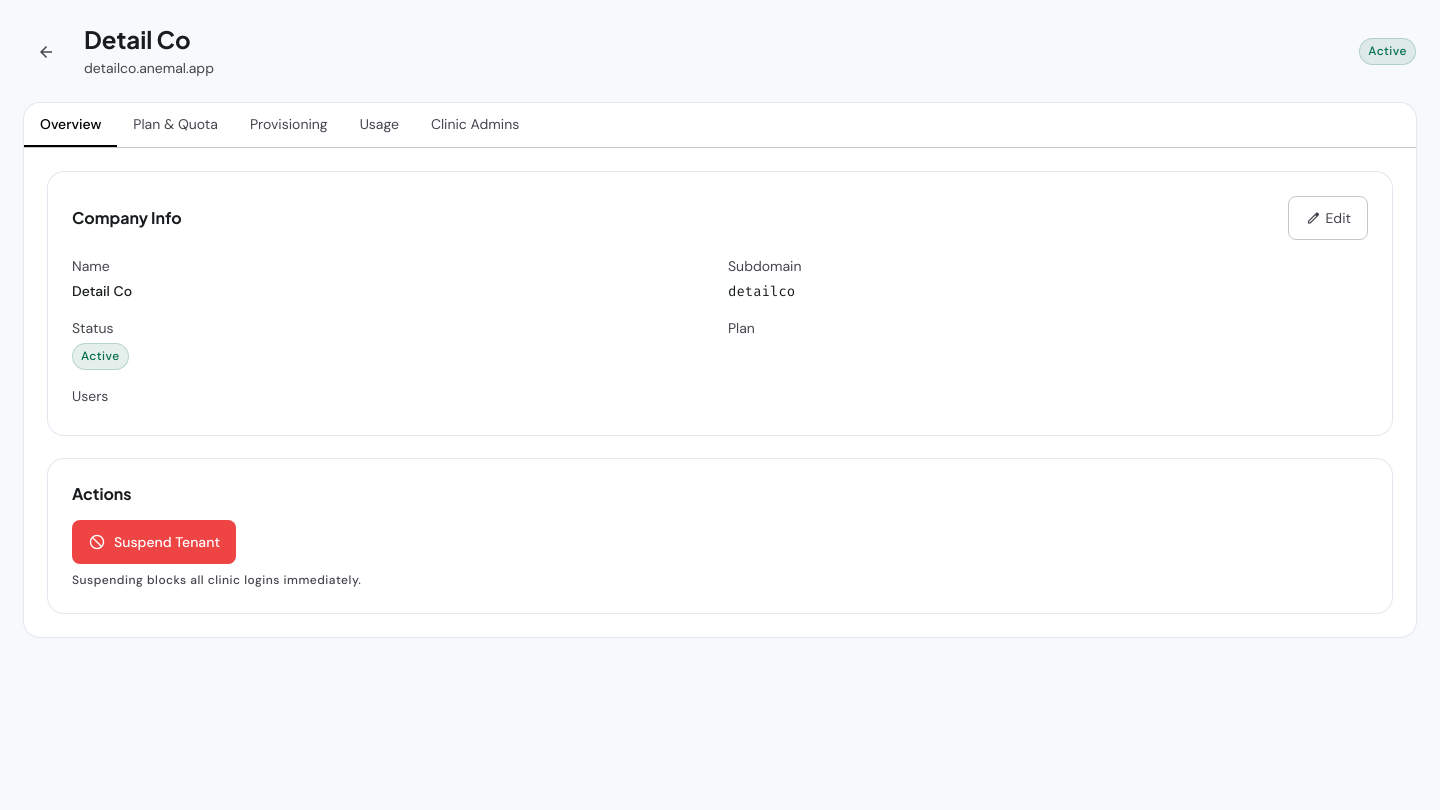
it: AC-F3 — CustomerDetailView tabs + usage › ✅ Usage tab renders Branches/Staff/Customers/Pets progress bars (component-expected shape)
Click the button "Usage".
click(379, 125)  # box [344,103,415,147]
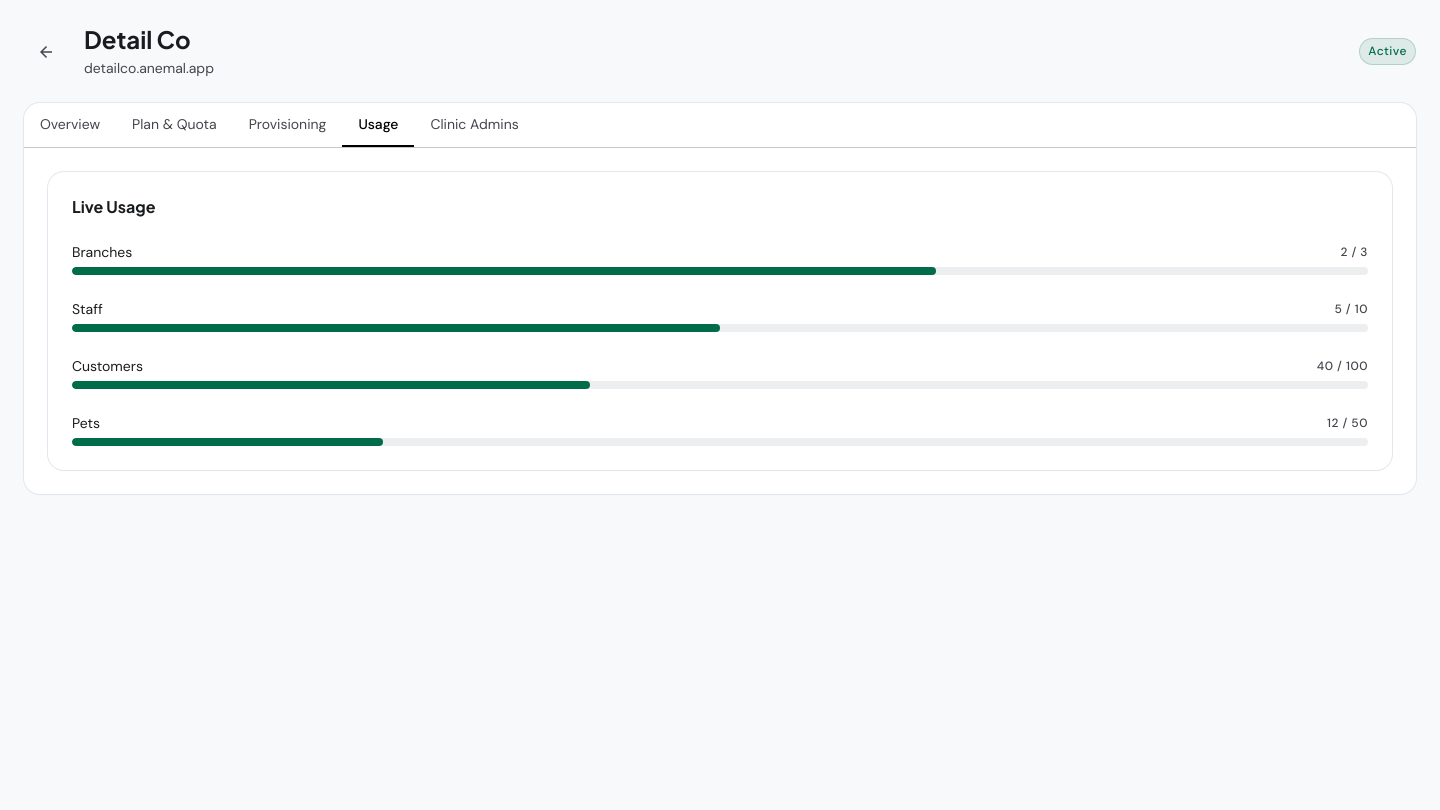
Check: the heading "Live Usage" is shown, box [72,196,156,217]
Check: the text "Branches" is shown, box [72,242,132,263]
Check: the text "Staff" is shown, box [72,299,103,320]
